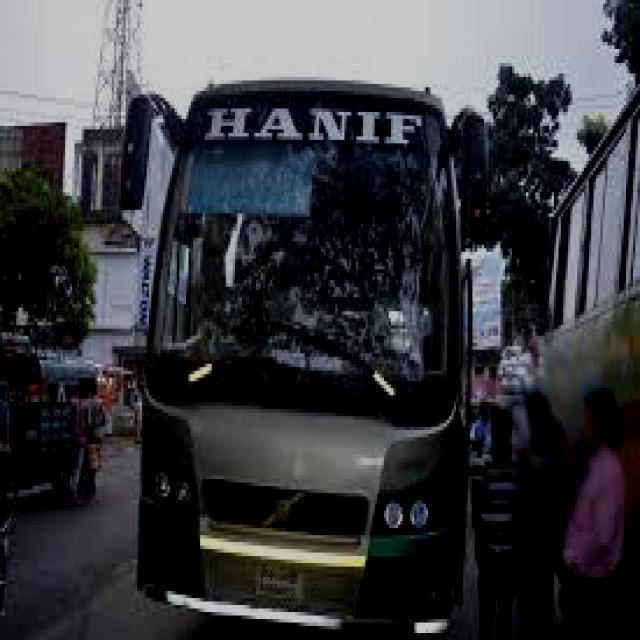bus: (120, 77, 493, 638)
